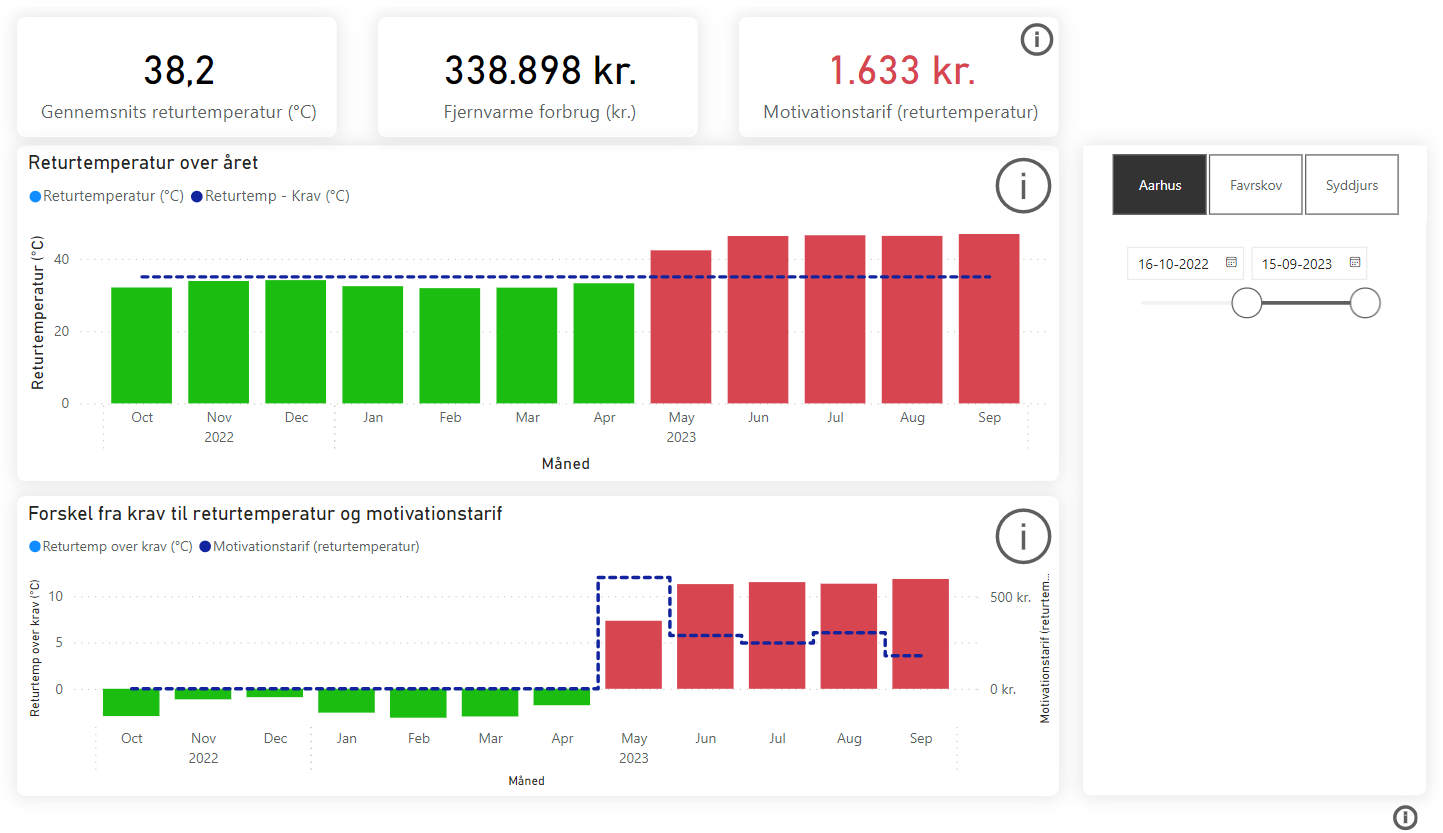

The page's visual inventory and layout, read from the dashboard file:
{"tool":"powerbi","page":{"name":"Returtemperatur","canvas":[1280,720],"ordinal":9},"visuals":[{"type":"shape","box":[971,121,297,562],"z":0},{"type":"lineStackedColumnComboChart","title":"Returtemperatur over året","fields":{"Y":["1 DAX.Returtemperatur"],"Y2":["1 DAX.Returtemp - Krav"],"Category":["4_FEATURIZ_DATOER.YEAR","4_FEATURIZ_DATOER.MONTHNAME"]},"box":[48.8,121.2,901.2,290],"z":1000},{"type":"slicer","fields":{"Values":["4_FEATURIZ_DATOER.DATE"]},"box":[996.4,199.1,248.2,86.4],"z":2000},{"type":"slicer","fields":{"Values":["1_RAW_KOMMUNER_SKOLER.KOMMUNE"]},"box":[970.9,120.9,297.3,66.4],"z":3000},{"type":"lineStackedColumnComboChart","title":"Forskel fra krav til returtemperatur og motivationstarif","fields":{"Category":["4_FEATURIZ_DATOER.YEAR","4_FEATURIZ_DATOER.MONTHNAME"],"Y":["1 DAX.Returtemp over krav"],"Y2":["1 DAX.Motivationstarif (returtemperatur)"]},"box":[49,424,901,259],"z":4000},{"type":"card","fields":{"Values":["1 DAX.Motivationstarif (returtemperatur)"]},"box":[673.3,10,276.7,103.3],"z":5000},{"type":"card","fields":{"Values":["1 DAX.Fjernvarme forbrug (kr.)"]},"box":[360.8,10,276.7,103.3],"z":6000},{"type":"card","fields":{"Values":["1 DAX.Returtemperatur"]},"box":[48.3,10,276.7,103.3],"z":7000},{"type":"actionButton","box":[888.3,123.3,61.7,63.3],"z":8000},{"type":"actionButton","box":[888.3,426.7,61.7,63.3],"z":9000},{"type":"actionButton","box":[912,10,38,39],"z":10000},{"type":"actionButton","box":[1235,687,30,31],"z":11000}]}

Visuals, with their boxes in screenshot pixels (x1, y1, x2, y2), scaled from the page's 1280x720 canvas onto the 1443x833 screenshot:
shape: bbox(1095, 140, 1429, 790)
"Returtemperatur over året" lineStackedColumnComboChart: bbox(55, 140, 1071, 476)
slicer - 4_FEATURIZ_DATOER.DATE: bbox(1123, 230, 1403, 330)
slicer - 1_RAW_KOMMUNER_SKOLER.KOMMUNE: bbox(1095, 140, 1430, 217)
"Forskel fra krav til returtemperatur og motivationstarif" lineStackedColumnComboChart: bbox(55, 491, 1071, 790)
card - 1 DAX.Motivationstarif (returtemperatur): bbox(759, 12, 1071, 131)
card - 1 DAX.Fjernvarme forbrug (kr.): bbox(407, 12, 719, 131)
card - 1 DAX.Returtemperatur: bbox(54, 12, 366, 131)
actionButton: bbox(1001, 143, 1071, 216)
actionButton: bbox(1001, 494, 1071, 567)
actionButton: bbox(1028, 12, 1071, 57)
actionButton: bbox(1392, 795, 1426, 831)
